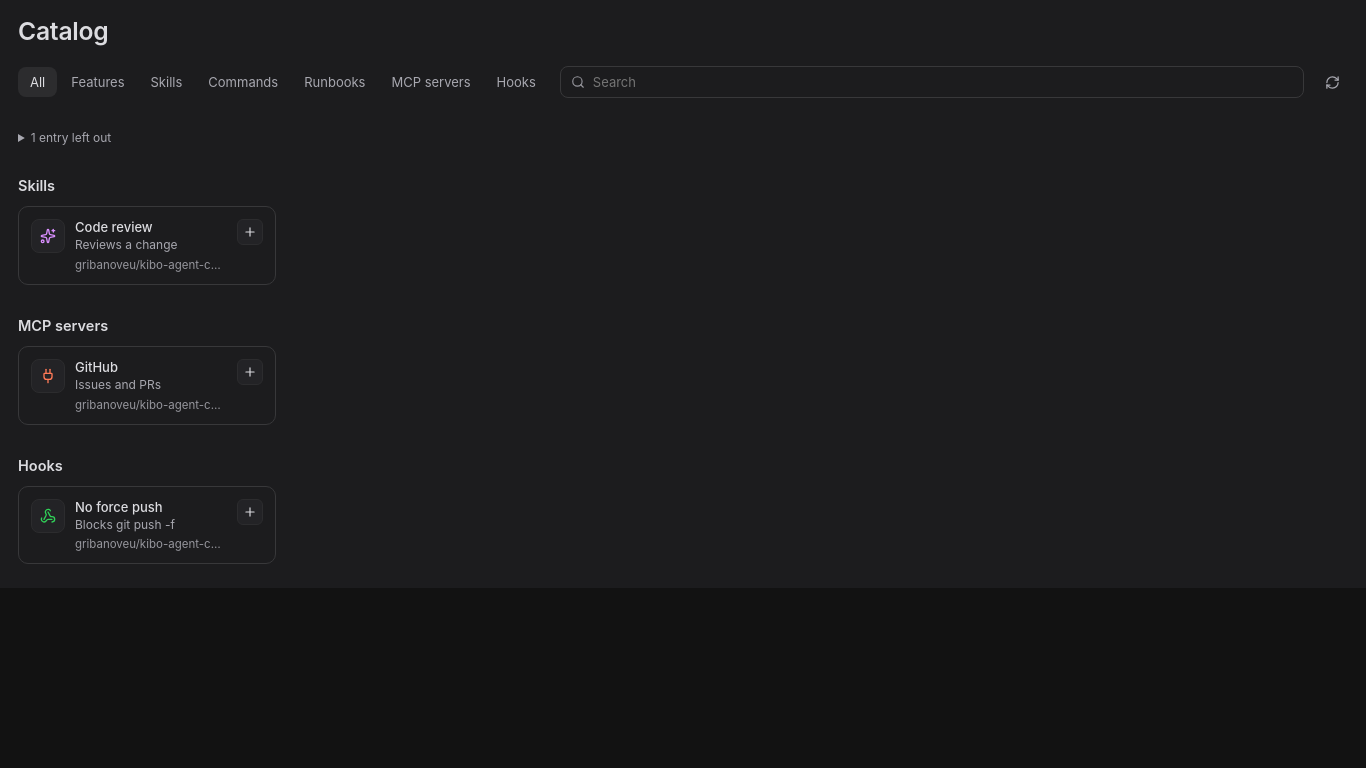
Test case: the catalog page › + installs, and the list is read again to show it
The width and height of the screenshot is (1366, 768).
Expected: the heading "Code review" is shown, [75,219,153,235]
Click the button named "Install Code review": click(250, 232) [237,219,263,245]
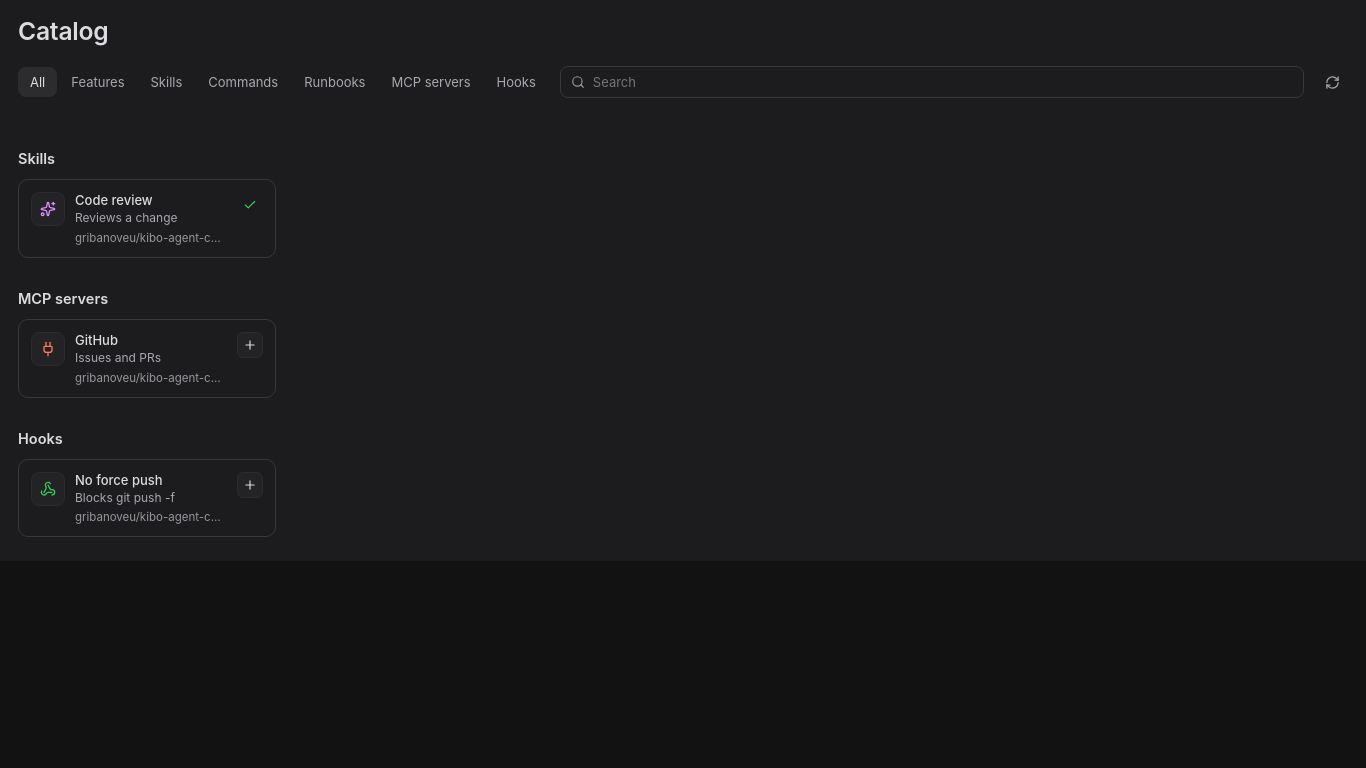
Expected: the element named "Installed" is shown, [243,198,257,212]
